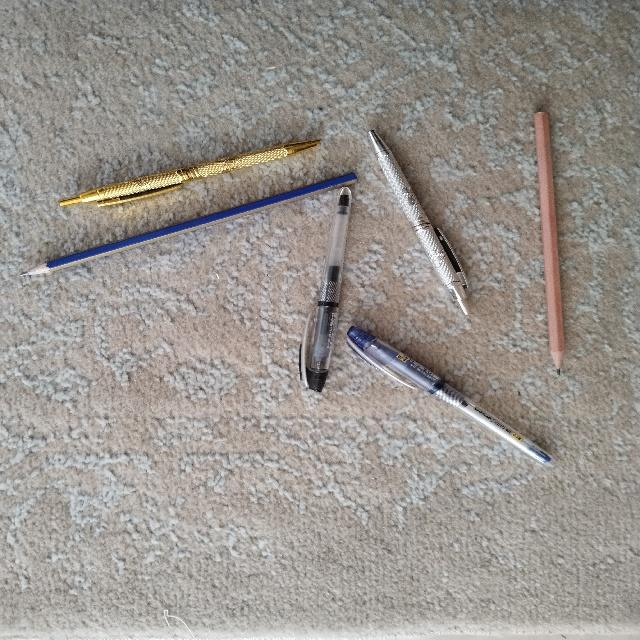pen: (347, 326, 550, 463), (299, 187, 350, 391)
pencil: (21, 173, 357, 275), (534, 111, 563, 372)
signature pen: (369, 130, 467, 314), (59, 139, 319, 205)
